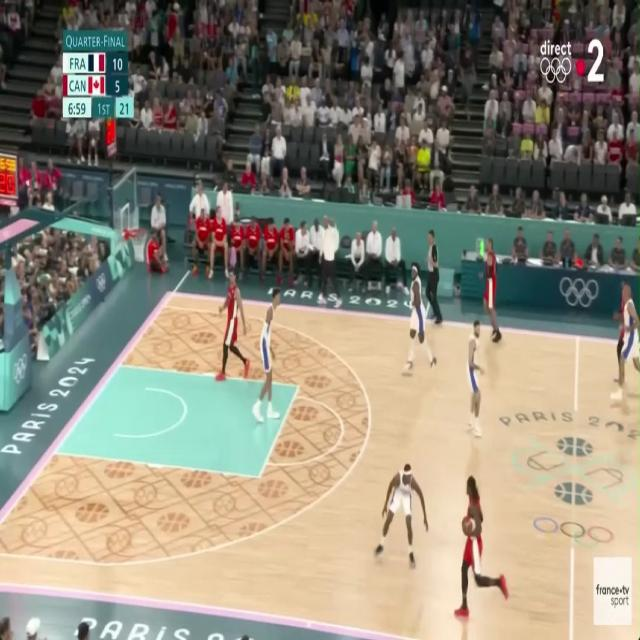ball_handler: (454, 471, 510, 624)
